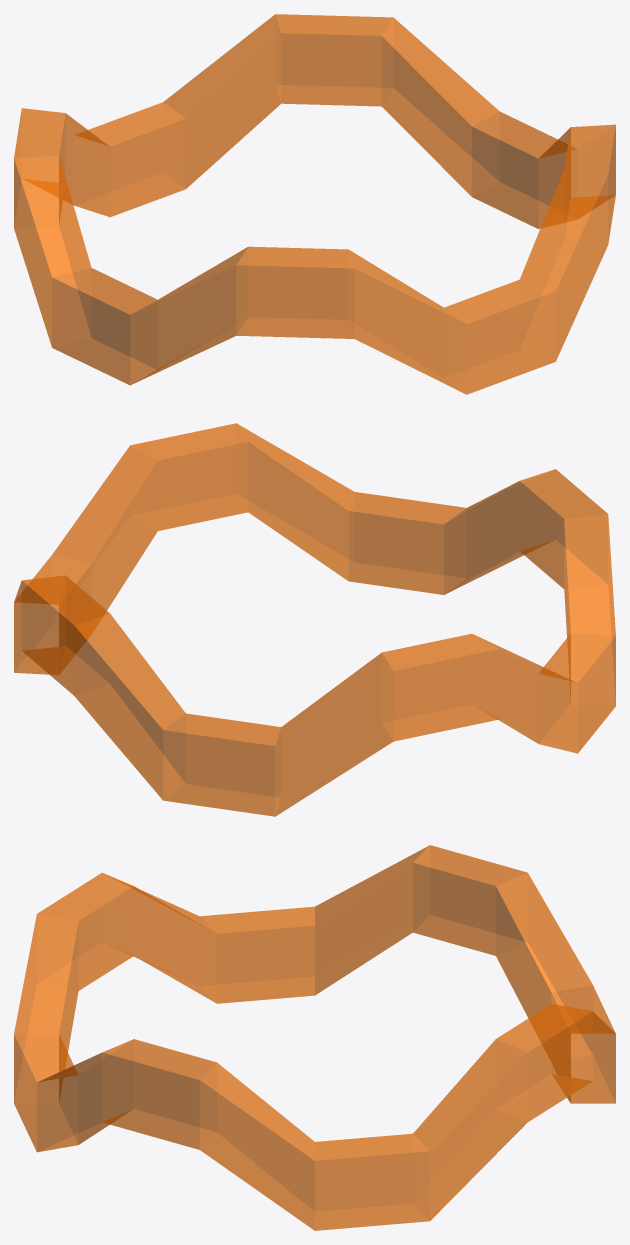
The model's file is AuraVeneno.FBX.
3 views of the same model, one above another, from view 1: azimuth 30°, elevation 25°; view 2: azimuth 150°, elevation 25°; view 3: azimuth 270°, elevation 25° (orthographic).
Parts seen in each view (by area): view 1: AuraVeneno; view 2: AuraVeneno; view 3: AuraVeneno.
Boxes of the visible parts, x1,y1,x2,y2 form: AuraVeneno: [14, 14, 615, 394]; AuraVeneno: [14, 423, 615, 816]; AuraVeneno: [14, 845, 615, 1230].
Size of the model in its own units: 63.34 by 16.39 by 63.34.
